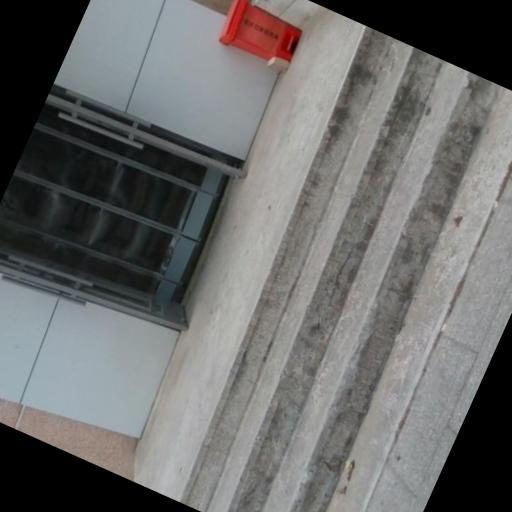stairs: (181, 27, 500, 511), (253, 0, 323, 26)
